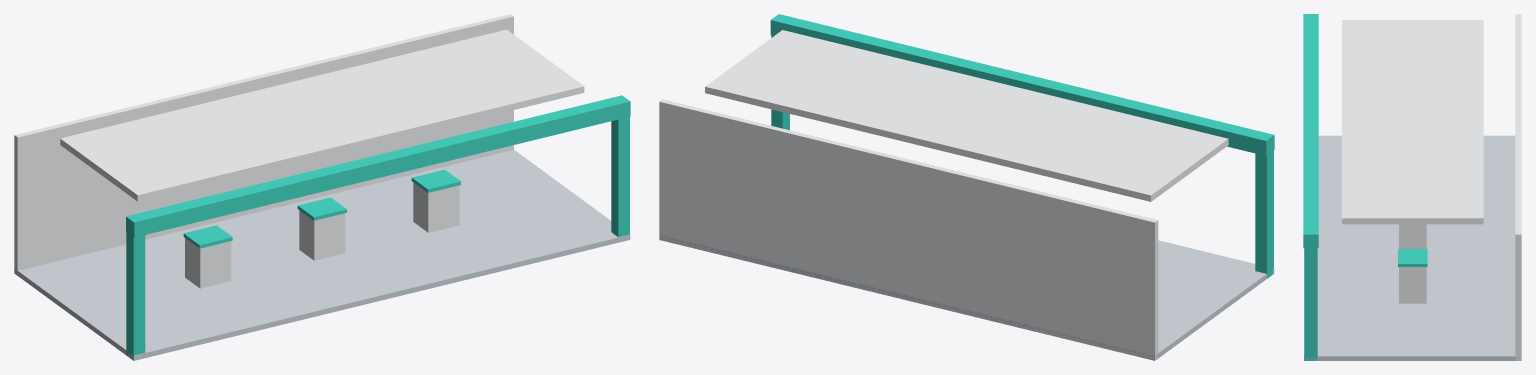
3 renders of one model, left to right at view 1: azimuth 30°, elevation 25°; view 2: azimuth 150°, elevation 25°; view 3: azimuth 270°, elevation 25°, orthographic. The views are drawn at different scales.
Parts seen in each view (by area): view 1: Exhibition Booth Concept; view 2: Exhibition Booth Concept; view 3: Exhibition Booth Concept.
Boxes of the visible parts, <box> form: Exhibition Booth Concept: <box>14,14,630,360</box>; Exhibition Booth Concept: <box>659,14,1274,360</box>; Exhibition Booth Concept: <box>1303,14,1521,360</box>.
Size of the model in its own units: 12 by 3.34 by 5.02.
